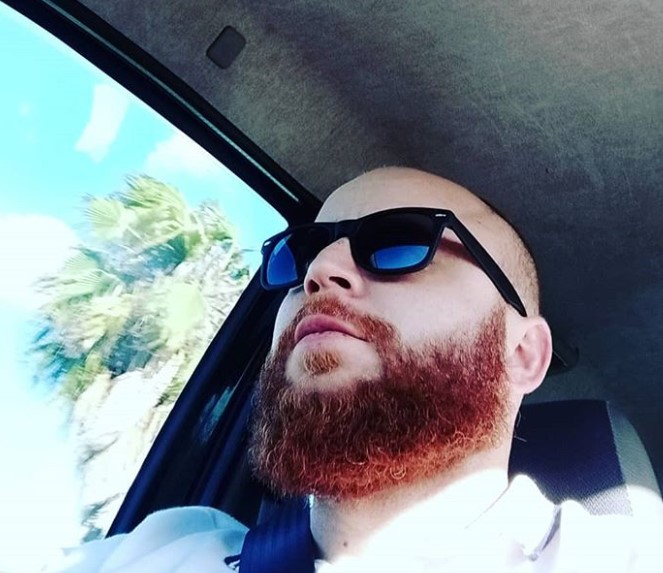face_no_mask: (264, 169, 529, 501)
